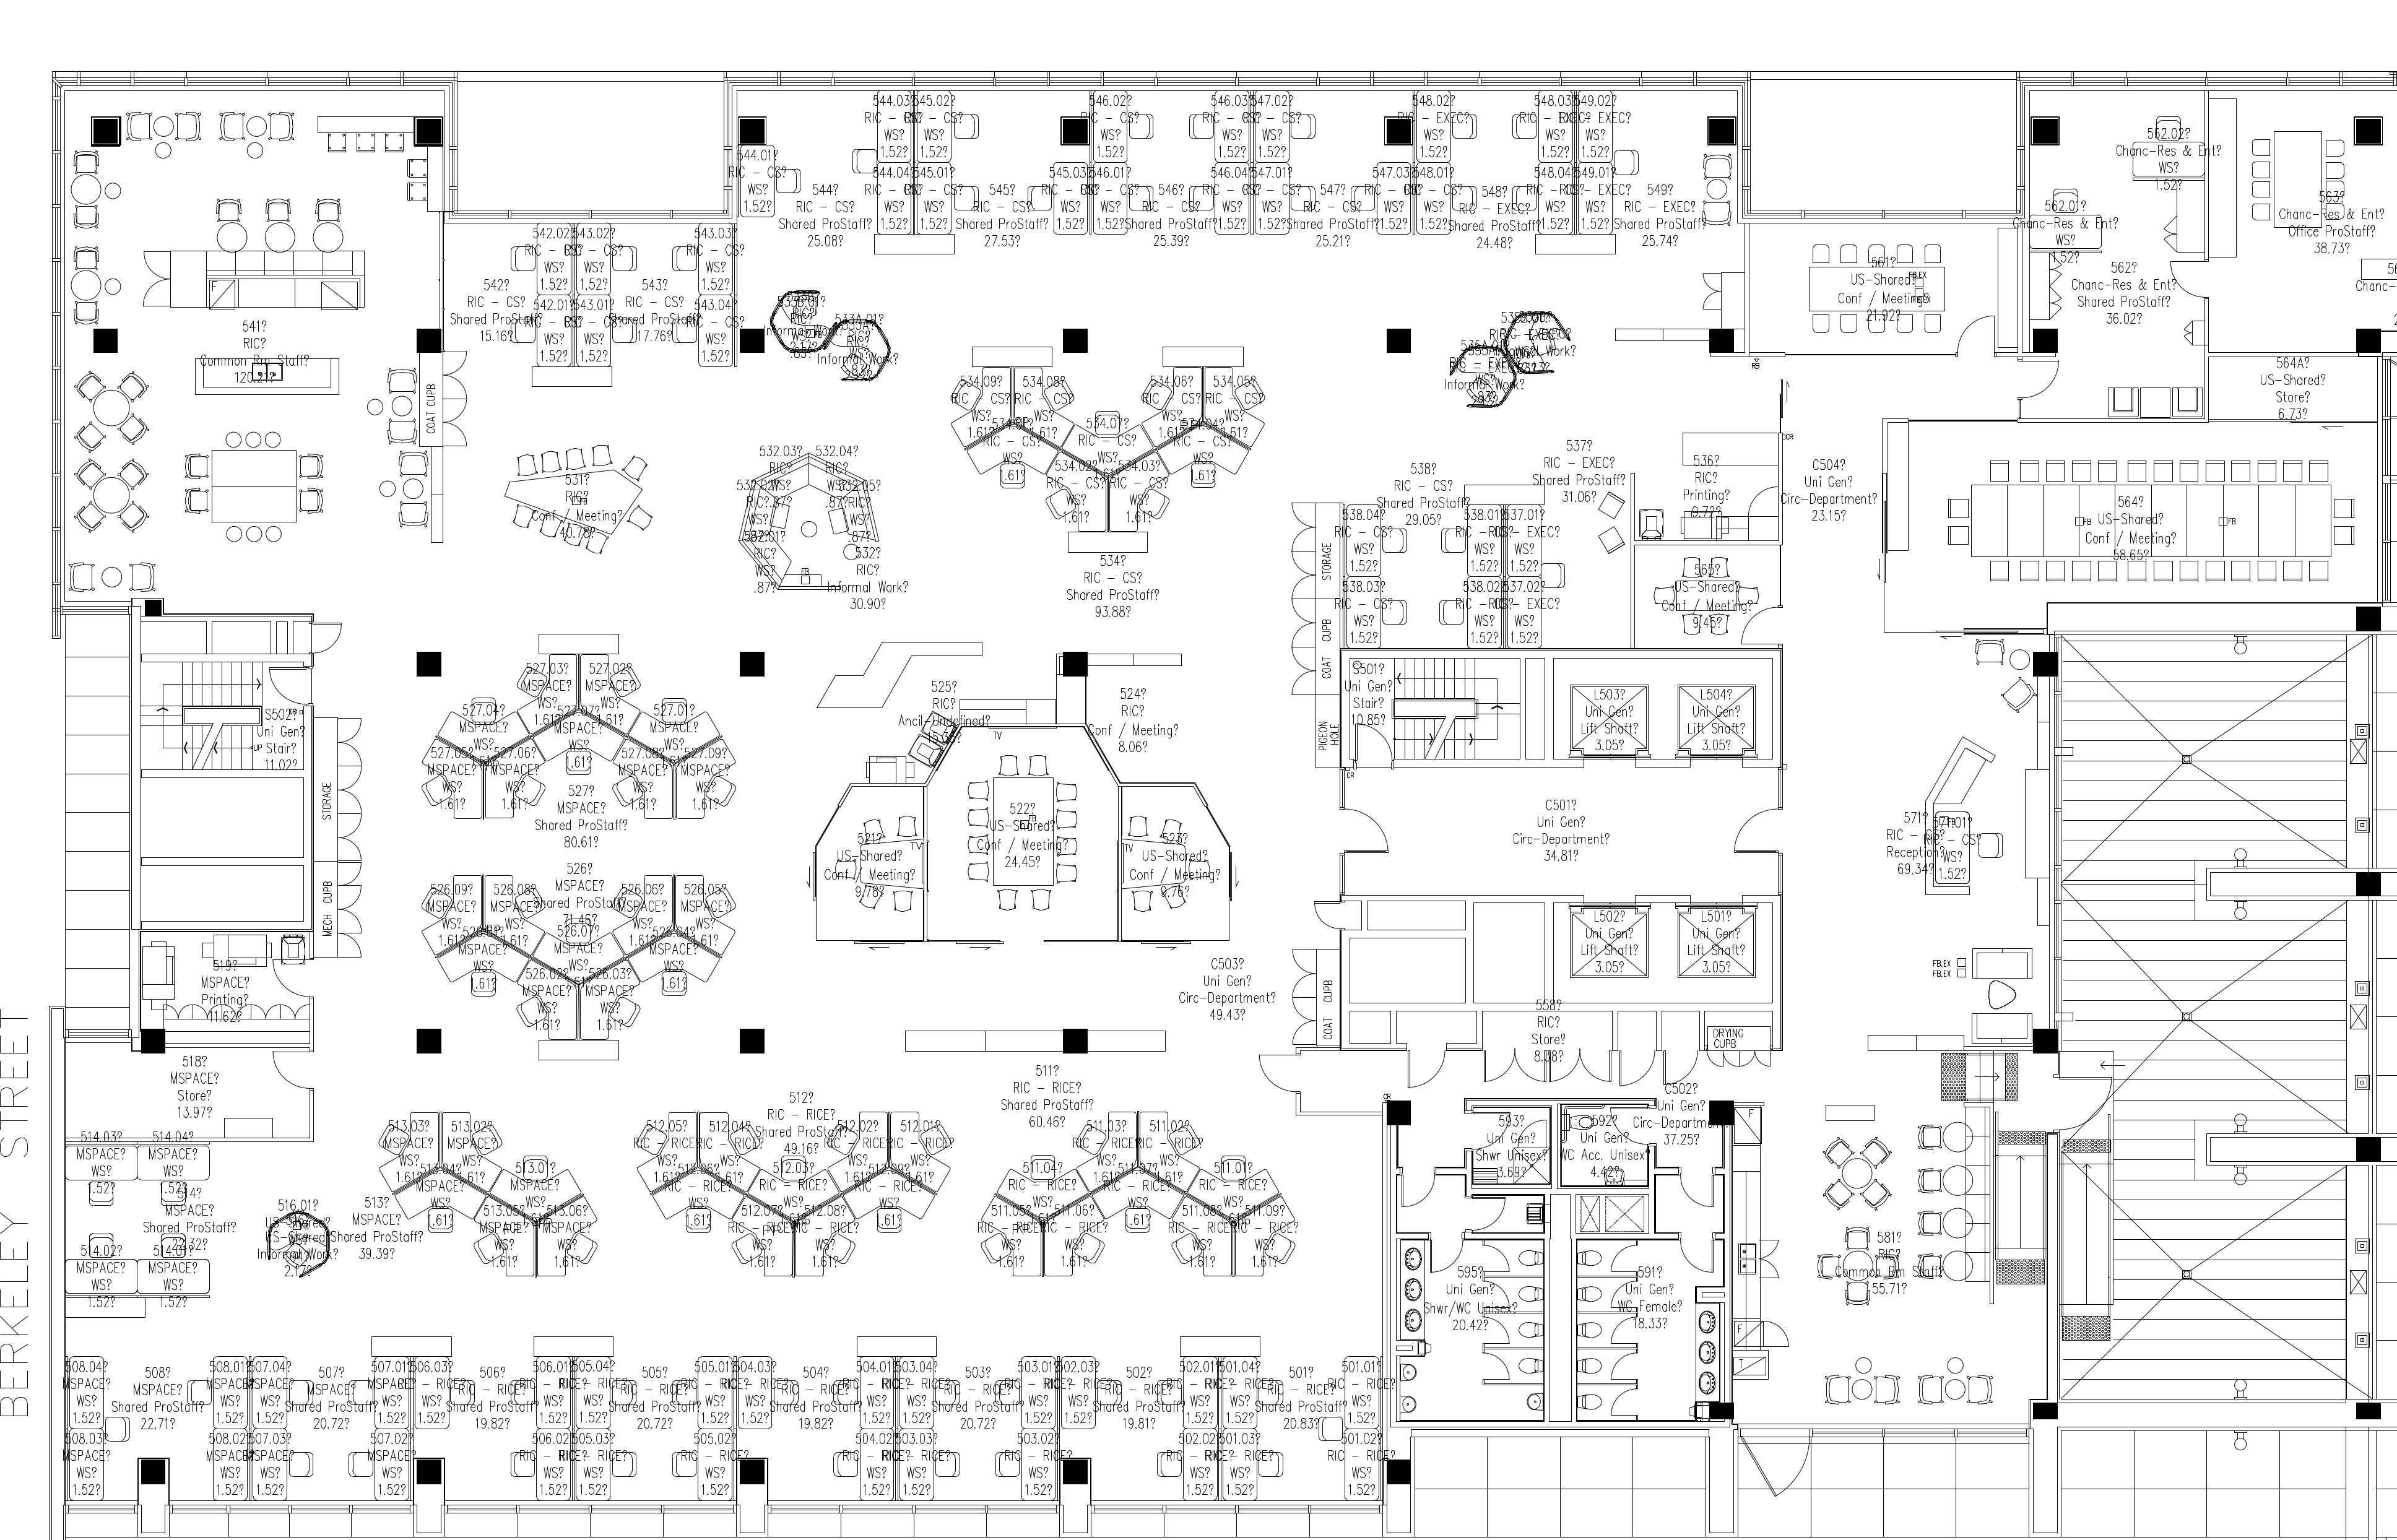text: (943, 354, 1274, 559), (624, 1093, 963, 1278), (977, 1095, 1303, 1280), (372, 1095, 603, 1278), (722, 437, 898, 604), (1434, 302, 1583, 412), (1462, 505, 1565, 651), (524, 223, 624, 367), (863, 93, 961, 234), (755, 292, 901, 384), (1176, 1351, 1268, 1495), (206, 1351, 292, 1500), (856, 1357, 938, 1510), (529, 1357, 618, 1498), (1321, 498, 1394, 653), (68, 1238, 206, 1318), (676, 222, 748, 370), (66, 1121, 204, 1198), (2271, 187, 2394, 264), (971, 789, 1076, 878), (2060, 255, 2182, 330), (1501, 794, 1621, 870), (1875, 803, 1979, 889), (2006, 189, 2121, 265), (56, 1351, 115, 1500), (1116, 826, 1230, 903), (1773, 452, 1883, 531), (1571, 87, 1628, 234), (517, 468, 634, 540), (1827, 246, 1936, 323), (2110, 122, 2221, 197), (1450, 505, 1506, 650), (2079, 489, 2182, 567), (253, 1189, 341, 1282), (1172, 953, 1282, 1027), (1337, 1355, 1392, 1498), (199, 318, 314, 386), (1530, 435, 1628, 513), (1371, 457, 1471, 534), (895, 672, 996, 747), (449, 272, 542, 354), (1831, 1229, 1945, 1296), (1081, 684, 1181, 760), (1525, 87, 1576, 234), (533, 780, 631, 856), (1207, 159, 1300, 237), (1284, 182, 1382, 255), (1043, 164, 1132, 244), (1368, 159, 1459, 237), (998, 1062, 1099, 1131), (769, 1362, 865, 1433), (1122, 180, 1219, 250), (823, 831, 921, 901), (823, 543, 915, 616), (533, 861, 632, 929), (1656, 560, 1756, 629), (1422, 1264, 1522, 1332), (2245, 349, 2329, 430), (611, 276, 702, 349), (753, 1090, 851, 1158), (142, 1187, 238, 1255), (961, 182, 1050, 255), (114, 1364, 206, 1433), (1204, 89, 1296, 159), (1071, 552, 1158, 625), (367, 1357, 454, 1430), (606, 1365, 702, 1432), (285, 1364, 377, 1432), (1634, 1081, 1726, 1149), (339, 1187, 423, 1262), (1448, 185, 1543, 251), (452, 1362, 538, 1433), (777, 185, 872, 250), (1614, 183, 1710, 246), (933, 1365, 1024, 1432), (1258, 1365, 1349, 1432), (1560, 1109, 1646, 1177), (1020, 1355, 1097, 1430), (1094, 1367, 1185, 1430), (1611, 1261, 1686, 1334), (1569, 906, 1648, 974), (699, 1357, 772, 1428), (157, 1048, 224, 1126), (1475, 1112, 1550, 1180), (1681, 906, 1752, 976), (1572, 688, 1646, 756), (1681, 688, 1752, 754), (1398, 87, 1464, 159), (248, 702, 307, 777), (723, 148, 791, 213), (678, 1432, 748, 1495), (1677, 449, 1731, 527), (1081, 91, 1139, 161), (1013, 1430, 1064, 1509), (196, 959, 255, 1025), (365, 1428, 419, 1500), (1522, 997, 1571, 1069), (1342, 662, 1392, 730)
